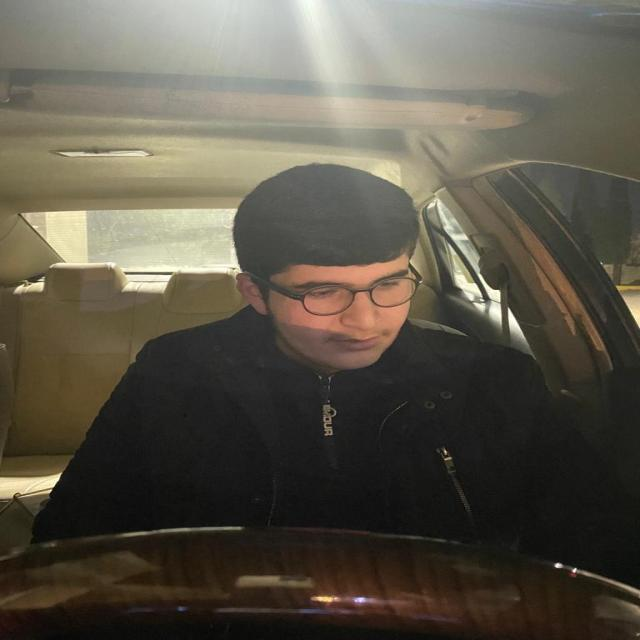person: (223, 157, 427, 376)
